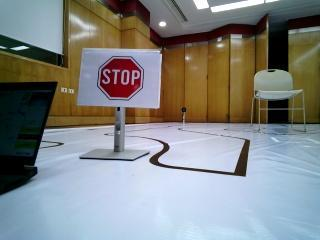stop: (86, 52, 152, 103)
